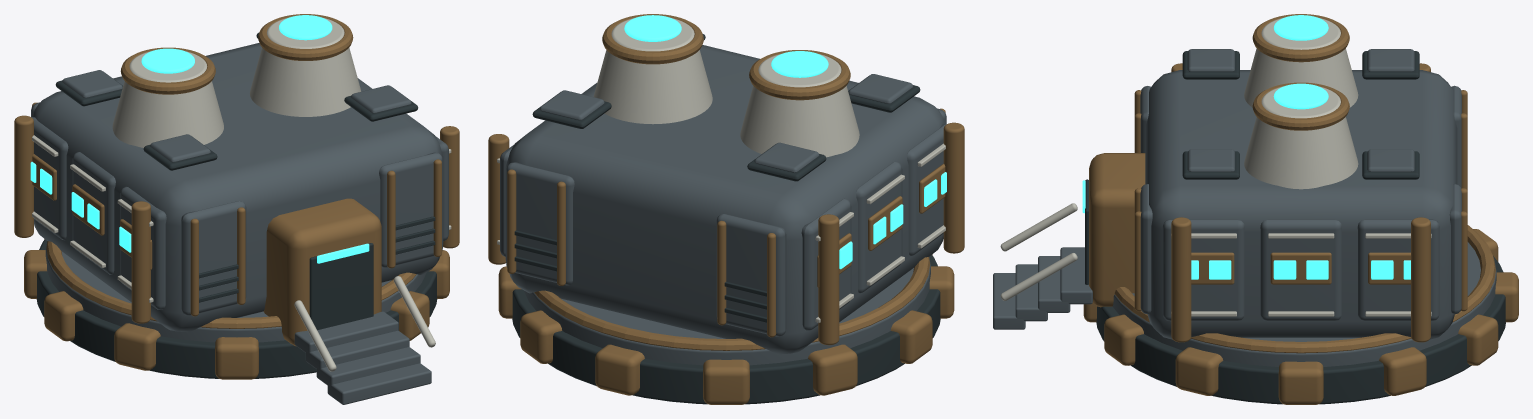
File: paillasse.glb
3 renders of one model, left to right at view 1: azimuth 30°, elevation 25°; view 2: azimuth 150°, elevation 25°; view 3: azimuth 270°, elevation 25°, orthographic. The views are drawn at different scales.
Visible parts, largest first — view 1: Salle de mesure, Sas, Chambre instrumentale, Semelle démontable, Chambre instrumentale.001, Panneau de façade, Panneau de façade.001, Porte, Châssis, Plaque latérale.001, Ceinture du châssis, Conduite d’angle.001 (+34 smaller); view 2: Salle de mesure, Semelle démontable, Chambre instrumentale, Châssis, Chambre instrumentale.001, Panneau de façade.002, Panneau de façade.003, Ceinture du châssis, Plaque latérale.001, Conduite d’angle.002, Plaque latérale, Conduite d’angle.001 (+26 smaller); view 3: Salle de mesure, Semelle démontable, Chambre instrumentale, Sas, Plaque latérale.004, Châssis, Plaque latérale.003, Plaque latérale.005, Chambre instrumentale.001, Ceinture du châssis, Conduite d’angle.003, Conduite d’angle (+35 smaller).
Part boxes in pixels (x1,y1,x2,y2): Salle de mesure: (33,43,443,332); Sas: (263,198,381,346); Chambre instrumentale: (250,17,361,116); Semelle démontable: (36,239,437,378); Chambre instrumentale.001: (112,51,223,147); Panneau de façade: (181,201,246,315); Panneau de façade.001: (379,152,442,267); Porte: (309,243,373,330); Châssis: (45,241,426,342); Plaque latérale.001: (72,152,115,274); Ceinture du châssis: (46,241,416,328); Conduite d’angle.001: (131,201,150,323); Salle de mesure: (505,45,944,354); Semelle démontable: (512,255,940,404); Chambre instrumentale: (593,18,712,124); Châssis: (523,257,930,365); Chambre instrumentale.001: (740,54,859,157); Panneau de façade.002: (716,214,786,336); Panneau de façade.003: (506,162,574,285); Ceinture du châssis: (534,257,930,350); Plaque latérale.001: (856,161,902,293); Conduite d’angle.002: (818,214,839,345); Plaque latérale: (907,124,946,255); Conduite d’angle.001: (943,122,964,253); Salle de mesure: (1145,70,1457,339); Semelle démontable: (1096,256,1505,404); Chambre instrumentale: (1244,86,1358,189); Sas: (1089,153,1145,307); Plaque latérale.004: (1260,219,1341,321); Châssis: (1112,242,1496,366); Plaque latérale.003: (1162,219,1244,321); Plaque latérale.005: (1357,219,1439,321); Chambre instrumentale.001: (1244,18,1358,107); Ceinture du châssis: (1114,225,1495,353); Conduite d’angle.003: (1171,217,1191,342); Conduite d’angle: (1411,217,1430,342).
Bounding box in the file's own units: 3.49 × 2.29 × 4.21.
